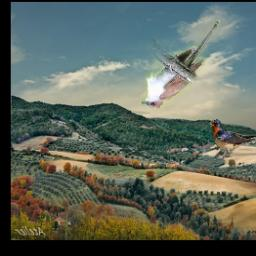Cuckoo: (141, 20, 220, 109)
Swallow: (210, 119, 256, 158)
